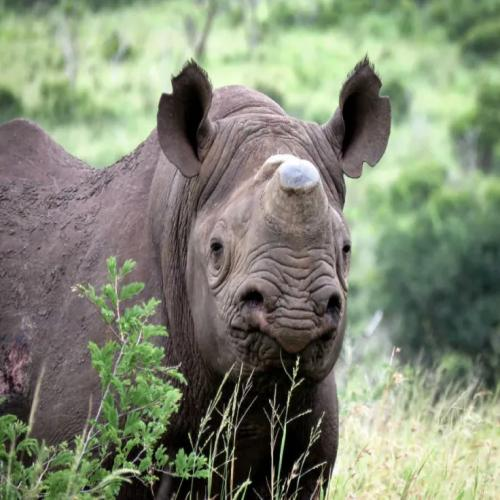rhino-endangered: (1, 53, 395, 494)
